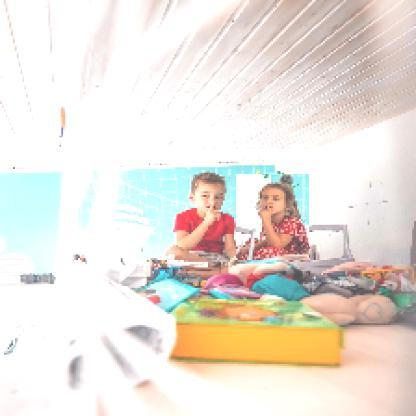child: (165, 172, 243, 261), (237, 175, 311, 262)
